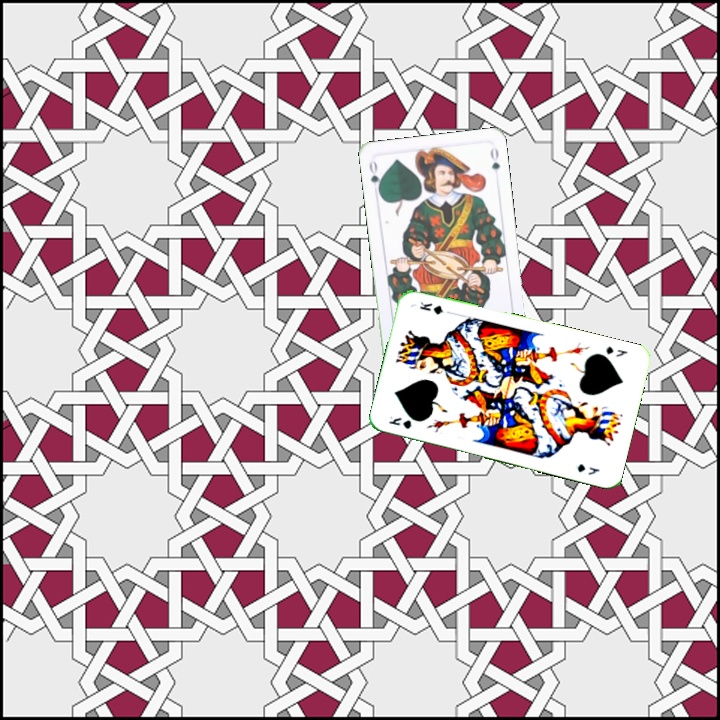GK: (385, 412, 416, 431), (602, 342, 630, 359)
GO: (365, 156, 384, 196)
